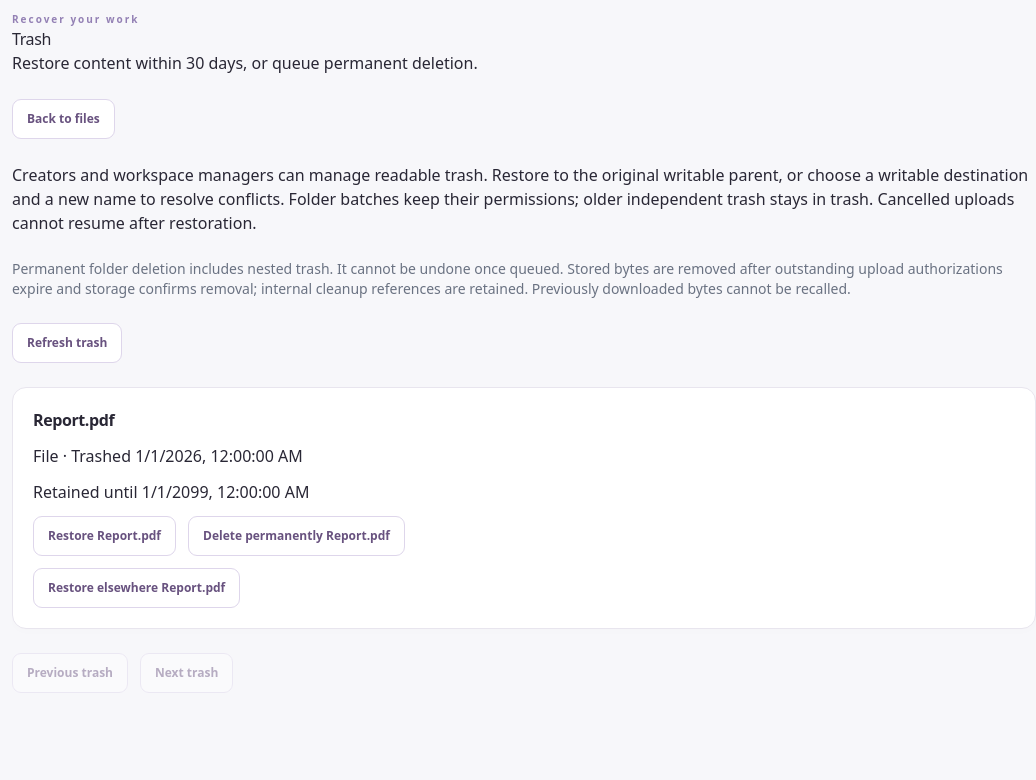
Test case: lists authorized trash and restores original permissions
Expected: the heading "Report.pdf" is shown, [33, 409, 114, 431]
Click the button "Restore Report.pdf" at (104, 536), box [33, 516, 176, 556]
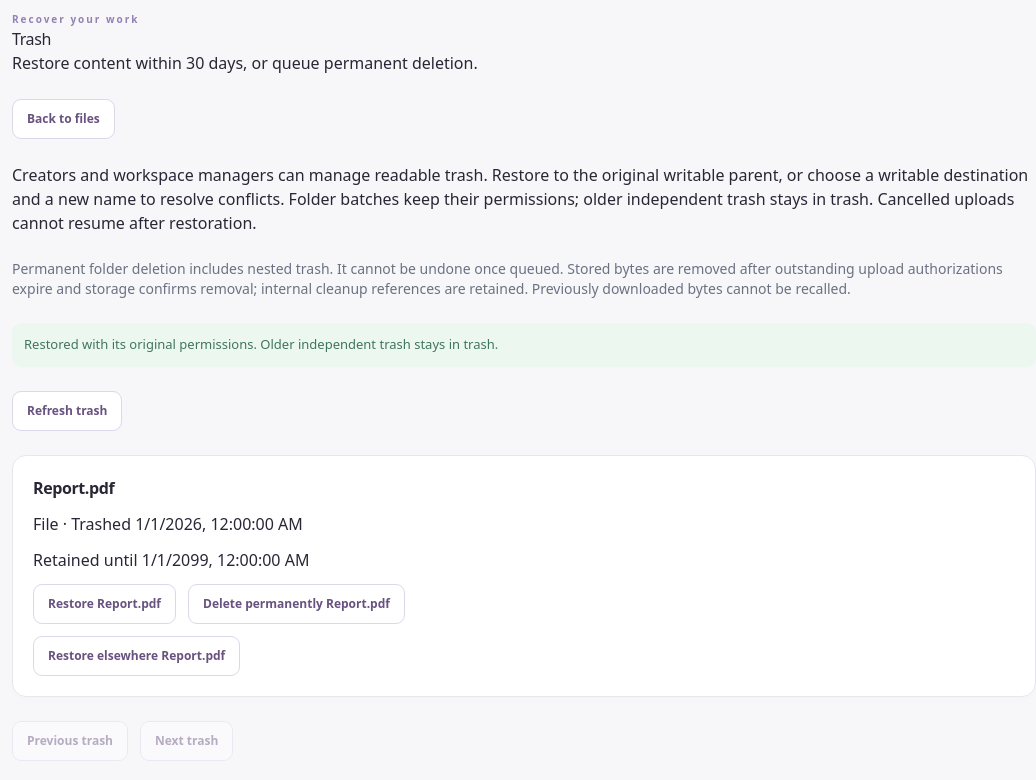
Expected: the message shows "original permissions", [24, 335, 498, 353]
